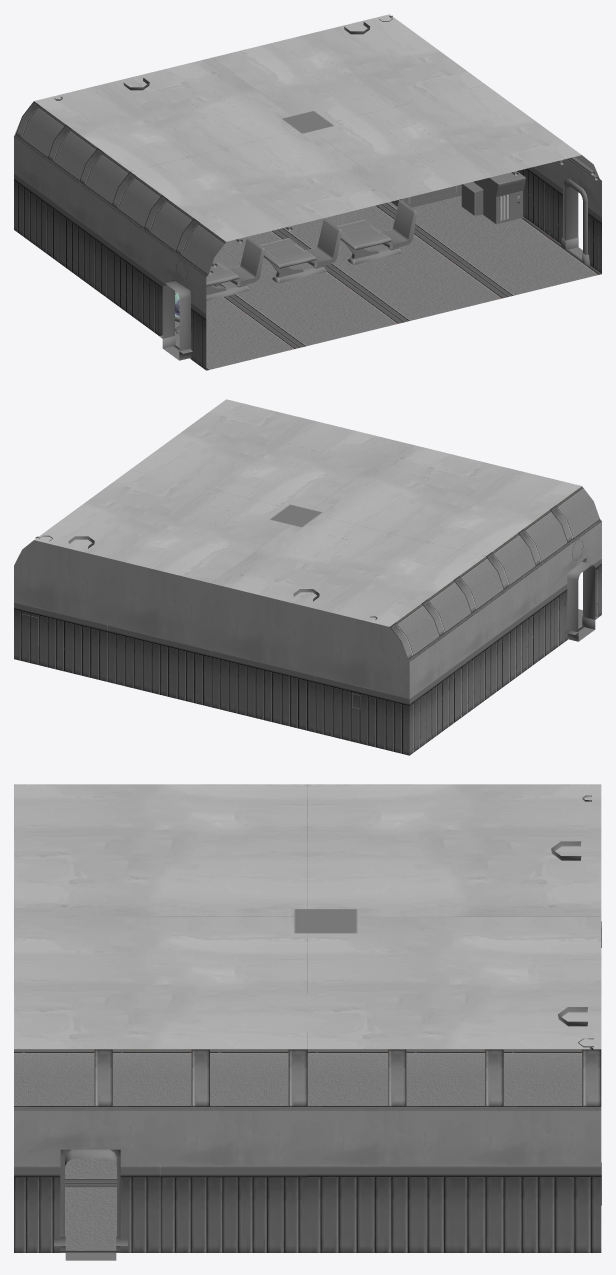
Rendered from MSH_Class_room_L3_R2_optimized.fbx.
3 views of the same model, one above another, from view 1: azimuth 30°, elevation 25°; view 2: azimuth 150°, elevation 25°; view 3: azimuth 270°, elevation 25° (orthographic). The views are drawn at different scales.
Parts seen in each view (by area): view 1: lightmap0, lightmap1, lightmap-1; view 2: lightmap0, lightmap-1, lightmap1; view 3: lightmap0, lightmap1, lightmap-1.
Boxes of the visible parts, x1=… form: lightmap0: x1=14, y1=14, x2=601, y2=370; lightmap1: x1=54, y1=15, x2=598, y2=334; lightmap-1: x1=162, y1=185, x2=582, y2=360; lightmap0: x1=14, y1=399, x2=601, y2=755; lightmap-1: x1=567, y1=562, x2=595, y2=641; lightmap1: x1=22, y1=504, x2=583, y2=708; lightmap0: x1=14, y1=784, x2=601, y2=1252; lightmap1: x1=294, y1=795, x2=601, y2=1205; lightmap-1: x1=65, y1=1149, x2=116, y2=1260.
Size of the model in its own units: 20.61 by 6.02 by 16.54.
Materials: 4 (3 with a texture image).
